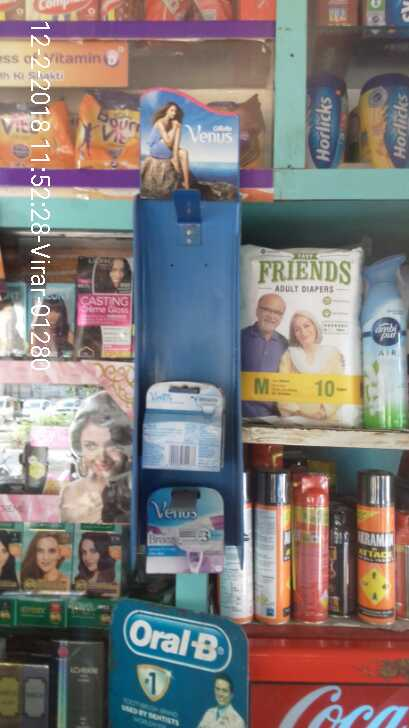beauty: (143, 484, 223, 573)
home: (362, 253, 407, 430)
